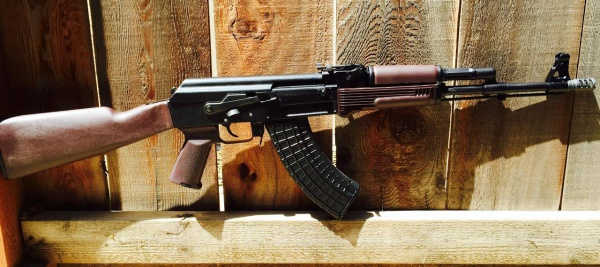ak47: (1, 54, 597, 219)
